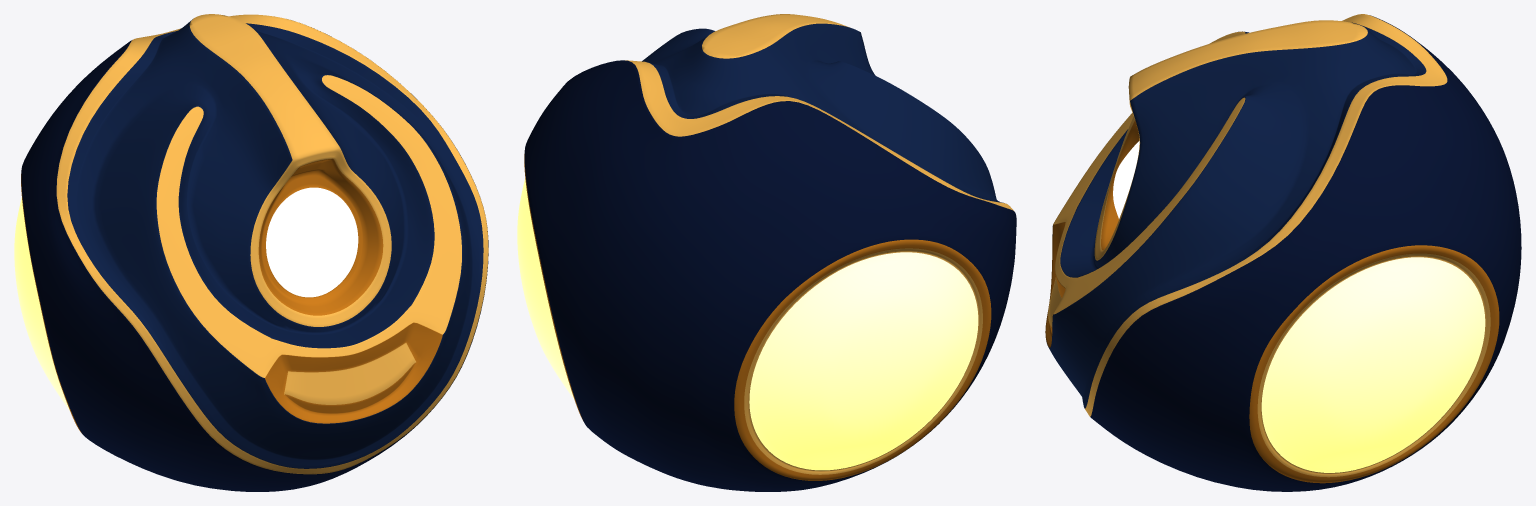
Rendered from marketing_node.glb.
The picture shows the model from 3 angles, left to right: view 1: azimuth 30°, elevation 25°; view 2: azimuth 150°, elevation 25°; view 3: azimuth 270°, elevation 25°; orthographic projection. The views are drawn at different scales.
Visible parts, largest first — view 1: roboOrb_finished_0; view 2: roboOrb_finished_0; view 3: roboOrb_finished_0.
Part boxes in pixels (bbox=[...]): roboOrb_finished_0: bbox=[14, 14, 488, 491]; roboOrb_finished_0: bbox=[517, 14, 1016, 491]; roboOrb_finished_0: bbox=[1045, 14, 1521, 491].
Size of the model in its own units: 1.94 by 1.87 by 1.85.
